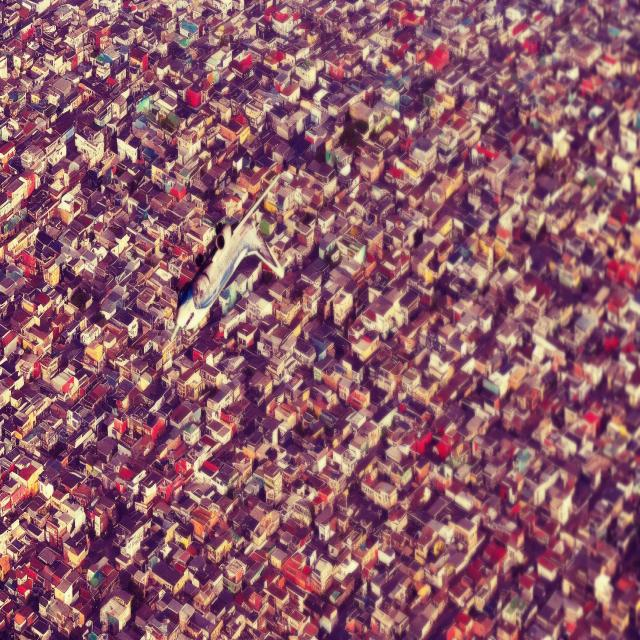airplane: (169, 168, 286, 342)
